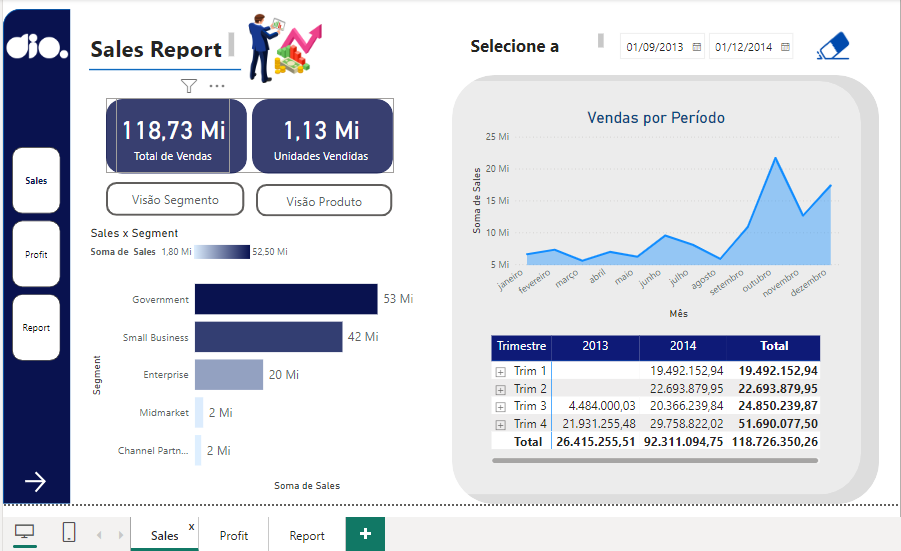

The dashboard page shown, as its layout file describes it:
{"tool":"powerbi","page":{"name":"Sales","canvas":[1280,720],"ordinal":0},"visuals":[{"type":"group","id":"g1","title":"Layout","box":[0,-0.5,511.4,720],"z":0},{"type":"shape","box":[0,13.4,96.4,706.2],"z":0,"group":"g1"},{"type":"slicer","fields":{"Values":["financials.Date"]},"box":[867.2,38.7,272.2,55],"z":0,"group":"g3"},{"type":"shape","box":[123.8,84.5,217.2,33],"z":0,"group":"g4"},{"type":"shape","box":[147.2,142.2,201.4,106.8],"z":0,"group":"g2"},{"type":"areaChart","title":"Vendas por Período","fields":{"Category":["financials.Date.Variation.Hierarquia de datas.Ano","financials.Date.Variation.Hierarquia de datas.Mês"],"Y":["Sum(financials. Sales)"]},"box":[661.6,156.1,539.7,306.2],"z":0,"group":"g6"},{"type":"clusteredBarChart","title":"Sales x Segment","fields":{"Category":["financials.Segment"],"Y":["Sum(financials. Sales)"]},"box":[120.4,323.9,479.3,383],"z":0,"group":"g5"},{"type":"image","title":"logo_dio","box":[0,35.7,98.2,63.2],"z":1000,"group":"g1"},{"type":"textbox","box":[120.4,43.1,215.2,48.5],"z":1000,"group":"g4"},{"type":"textbox","box":[661.6,44.7,199.6,45.6],"z":1000,"group":"g3"},{"type":"shape","box":[355.9,142.2,201.4,106.8],"z":1000,"group":"g2"},{"type":"actionButton","title":"Botão - Next","box":[25.9,669,48.8,39.6],"z":1000},{"type":"image","box":[322.6,-0.5,188.8,141.2],"z":2000,"group":"g1"},{"type":"actionButton","box":[1153.4,43.3,59.9,51.3],"z":2000,"group":"g3"},{"type":"group","id":"g2","title":"Cartões","box":[147.2,141.2,410.3,107],"z":2000},{"type":"card","fields":{"Values":["Sum(financials. Sales)"]},"box":[161.1,141.2,162.6,106.9],"z":2000,"group":"g2"},{"type":"actionButton","title":"B-Segmento","box":[147.8,261.6,197.5,48.4],"z":2000,"group":"g5"},{"type":"group","id":"g3","title":"Filtro por data","box":[661.6,38.7,551.5,55],"z":3000},{"type":"image","title":"clean","box":[1153.4,39,59.9,55.6],"z":3000,"group":"g3"},{"type":"card","fields":{"Values":["Sum(financials.Units Sold)"]},"box":[375.8,145.4,156.5,98.6],"z":3000,"group":"g2"},{"type":"actionButton","title":"B-Produto","box":[362.2,264.3,194.6,46.3],"z":3000,"group":"g5"},{"type":"shape","box":[640.7,108.5,609.5,612.5],"z":4000},{"type":"group","id":"g4","title":"Title report","box":[120.4,43.1,221.5,74.3],"z":5000},{"type":"group","id":"g5","title":"Grupo 1","box":[120.4,261.6,478.7,446],"z":6000},{"type":"shape","box":[584.3,117.4,640.7,590.2],"z":7000},{"type":"group","id":"g6","title":"Perspectiva temporal das vendas","box":[661.6,156.1,539.7,306.2],"z":8000},{"type":"pivotTable","fields":{"Values":["Sum(financials. Sales)"],"Columns":["financials.Date.Variation.Hierarquia de datas.Ano"],"Rows":["financials.Date.Variation.Hierarquia de datas.Trimestre","financials.Date.Variation.Hierarquia de datas.Mês"]},"box":[692.8,475.7,478.7,193.3],"z":9000},{"type":"pageNavigator","box":[13.4,211.1,69.9,306.2],"z":10000}]}

Visuals, with their boxes on the page's 1280x720 design canvas (x1, y1, x2, y2). These are canvas units, not pixel positions in the 901x551 screenshot, which may show the page scaled, cropped or inside an application window:
"Layout" group: Rect(0, 0, 511, 720)
shape: Rect(0, 13, 96, 720)
slicer - financials.Date: Rect(867, 39, 1139, 94)
shape: Rect(124, 84, 341, 118)
shape: Rect(147, 142, 349, 249)
"Vendas por Período" areaChart: Rect(662, 156, 1201, 462)
"Sales x Segment" clusteredBarChart: Rect(120, 324, 600, 707)
"logo_dio" image: Rect(0, 36, 98, 99)
textbox: Rect(120, 43, 336, 92)
textbox: Rect(662, 45, 861, 90)
shape: Rect(356, 142, 557, 249)
"Botão - Next" actionButton: Rect(26, 669, 75, 709)
image: Rect(323, 0, 511, 141)
actionButton: Rect(1153, 43, 1213, 95)
"Cartões" group: Rect(147, 141, 558, 248)
card - Sum(financials. Sales): Rect(161, 141, 324, 248)
"B-Segmento" actionButton: Rect(148, 262, 345, 310)
"Filtro por data" group: Rect(662, 39, 1213, 94)
"clean" image: Rect(1153, 39, 1213, 95)
card - Sum(financials.Units Sold): Rect(376, 145, 532, 244)
"B-Produto" actionButton: Rect(362, 264, 557, 311)
shape: Rect(641, 108, 1250, 721)
"Title report" group: Rect(120, 43, 342, 117)
"Grupo 1" group: Rect(120, 262, 599, 708)
shape: Rect(584, 117, 1225, 708)
"Perspectiva temporal das vendas" group: Rect(662, 156, 1201, 462)
pivotTable - Sum(financials. Sales) x financials.Date.Variation.Hierarquia de datas.Ano: Rect(693, 476, 1172, 669)
pageNavigator: Rect(13, 211, 83, 517)
